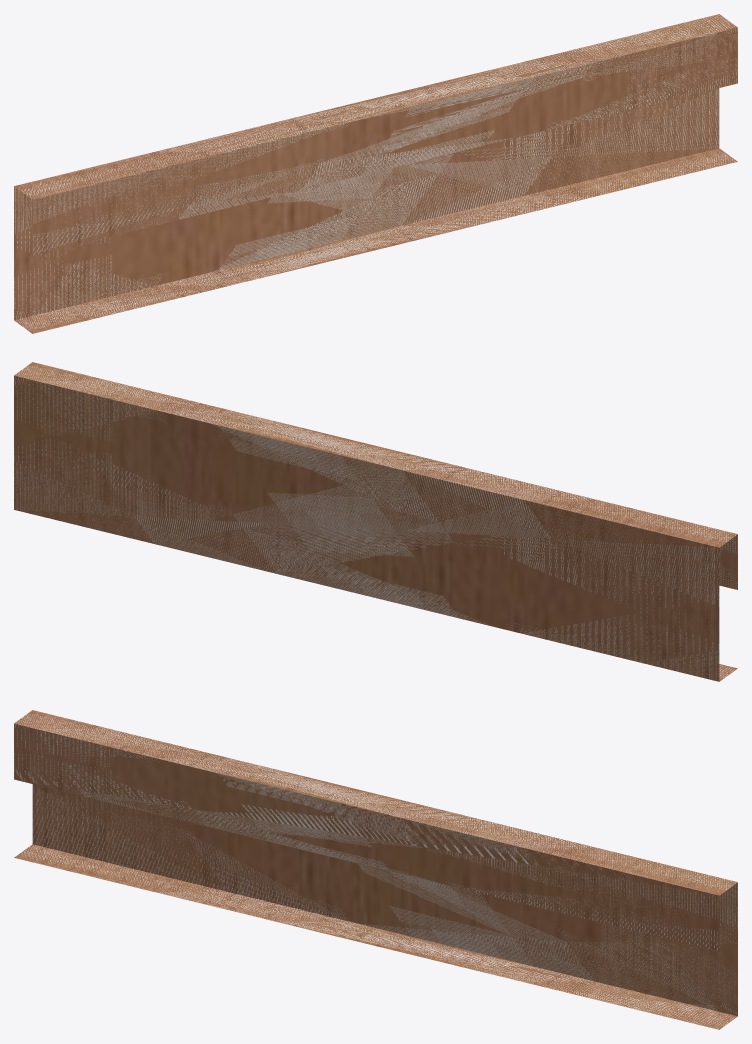
Rendered from original-4.obj.
The picture shows the model from 3 angles, top to bottom: view 1: azimuth 30°, elevation 25°; view 2: azimuth 150°, elevation 25°; view 3: azimuth 330°, elevation 25°; orthographic projection.
Parts seen in each view (by area): view 1: R2_9_1/R2_9/mesh3/mesh3-geometry#mesh3-geometry; view 2: R2_9_1/R2_9/mesh3/mesh3-geometry#mesh3-geometry; view 3: R2_9_1/R2_9/mesh3/mesh3-geometry#mesh3-geometry.
Part boxes in pixels (x1,y1,x2,y2): R2_9_1/R2_9/mesh3/mesh3-geometry#mesh3-geometry: [14, 14, 737, 333]; R2_9_1/R2_9/mesh3/mesh3-geometry#mesh3-geometry: [14, 362, 737, 681]; R2_9_1/R2_9/mesh3/mesh3-geometry#mesh3-geometry: [14, 710, 737, 1029].
Size of the model in its own units: 0.729 by 0.1325 by 0.0331.
